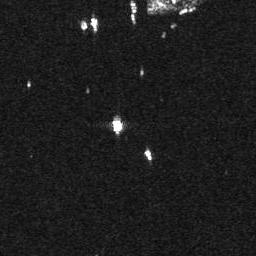ship: (90, 16, 99, 33), (113, 118, 123, 133), (143, 148, 153, 161), (128, 12, 138, 24), (130, 1, 138, 14), (178, 6, 188, 15)
